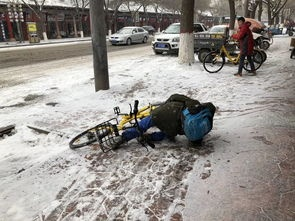falling: (109, 85, 219, 152)
